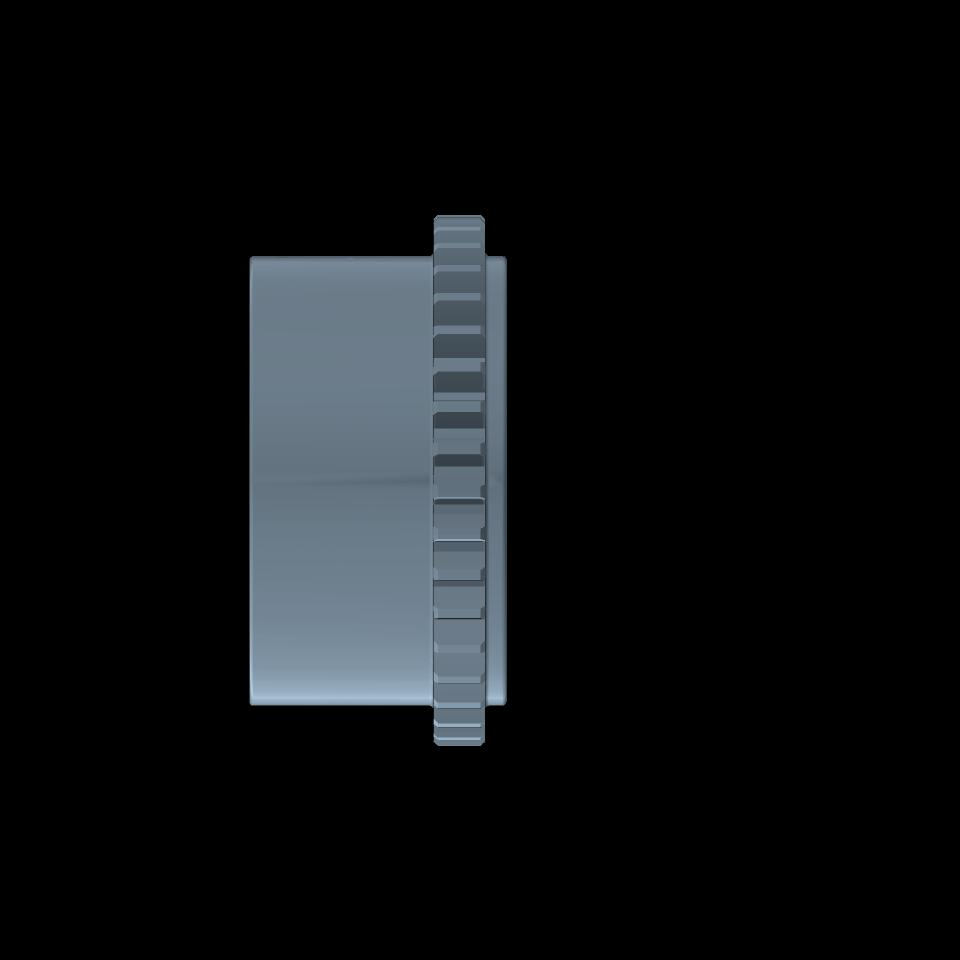Straight: (439, 214, 481, 746)
